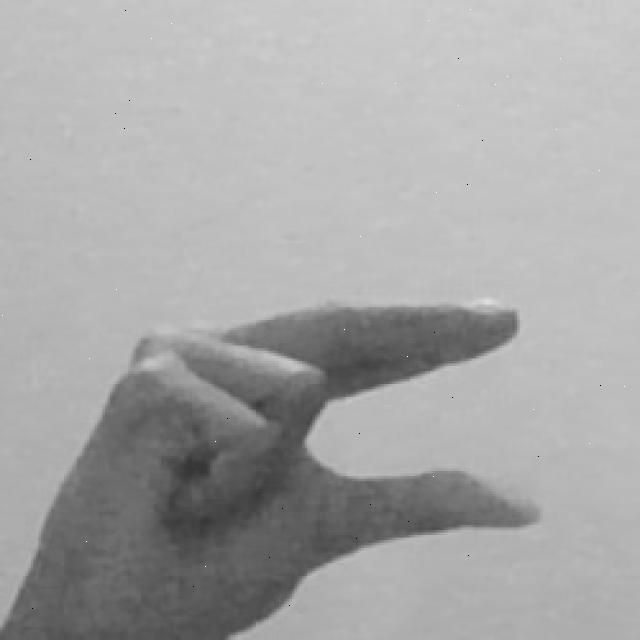G: (0, 299, 545, 640)
